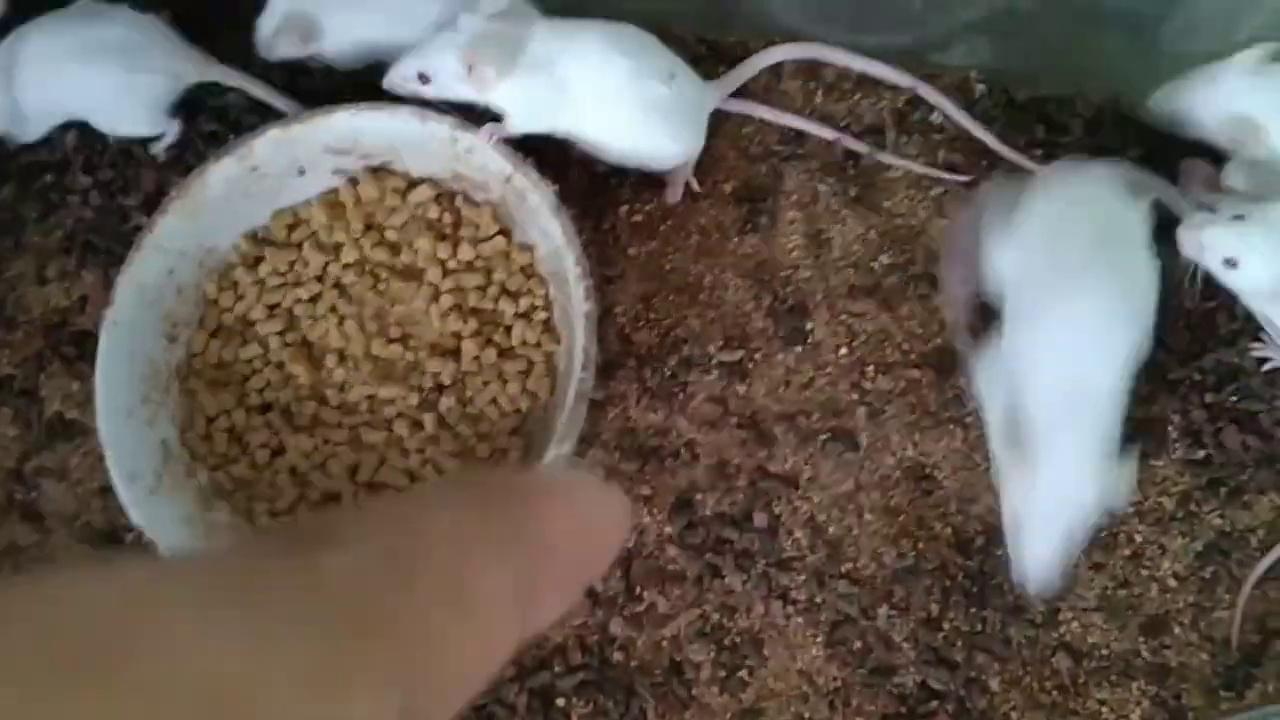rat: (383, 1, 1041, 204), (948, 156, 1184, 597), (0, 0, 306, 158), (1178, 197, 1280, 373), (1142, 39, 1280, 168), (256, 0, 509, 61)
